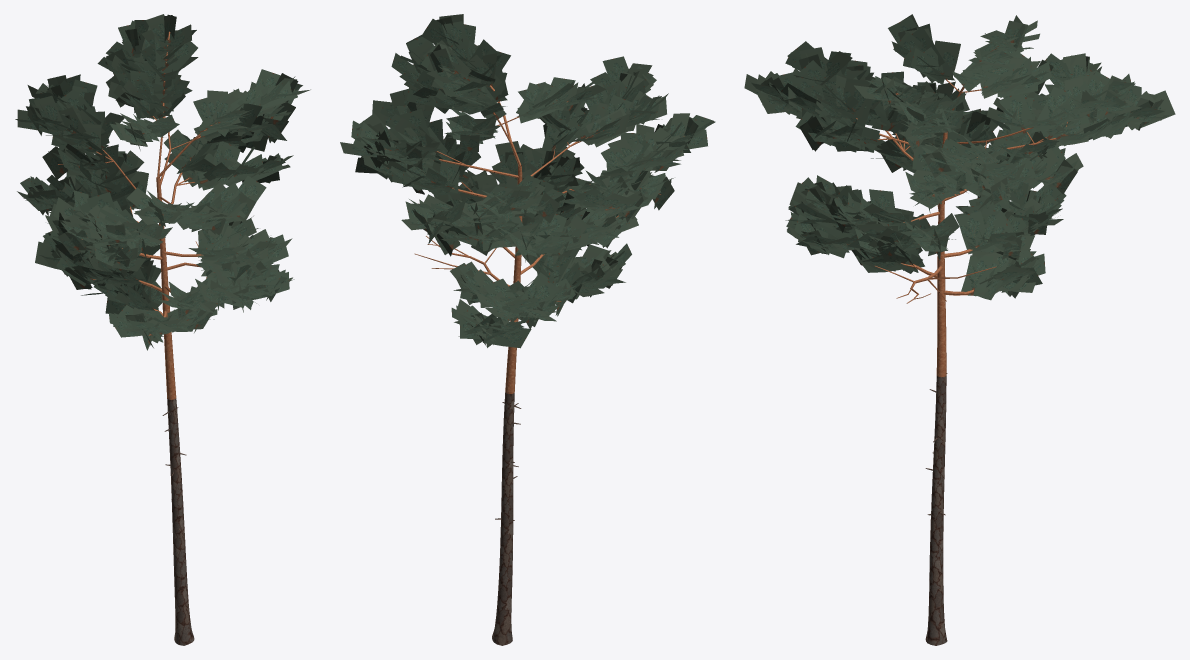
The model's file is pine_b_LOD0.fbx.
3 renders of one model, left to right at view 1: azimuth 30°, elevation 25°; view 2: azimuth 150°, elevation 25°; view 3: azimuth 270°, elevation 25°, orthographic. The views are drawn at different scales.
Visible parts, largest first — view 1: Pine_B_LOD0_Foliage, Pine_B_LOD0_Bark; view 2: Pine_B_LOD0_Foliage, Pine_B_LOD0_Bark; view 3: Pine_B_LOD0_Foliage, Pine_B_LOD0_Bark.
Boxes of the visible parts, x1,y1,x2,y2 form: Pine_B_LOD0_Foliage: (15, 14, 310, 350); Pine_B_LOD0_Bark: (58, 31, 216, 645); Pine_B_LOD0_Foliage: (340, 14, 715, 348); Pine_B_LOD0_Bark: (385, 64, 684, 645); Pine_B_LOD0_Foliage: (744, 14, 1175, 300); Pine_B_LOD0_Bark: (856, 35, 1067, 645).
Bounding box in the file's own units: 8.14 × 17.8 × 10.93.
Materials: 2 (2 with a texture image).
